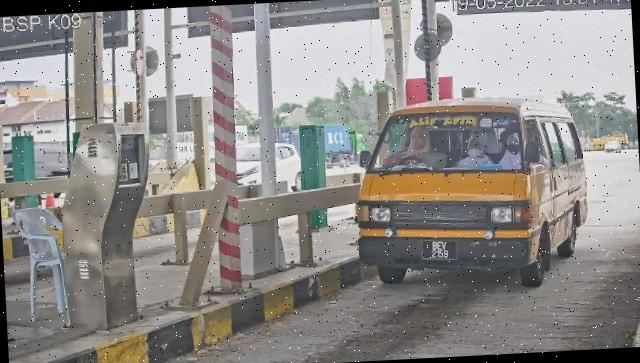License_Plate: (422, 238, 460, 264)
van: (352, 93, 594, 297)
